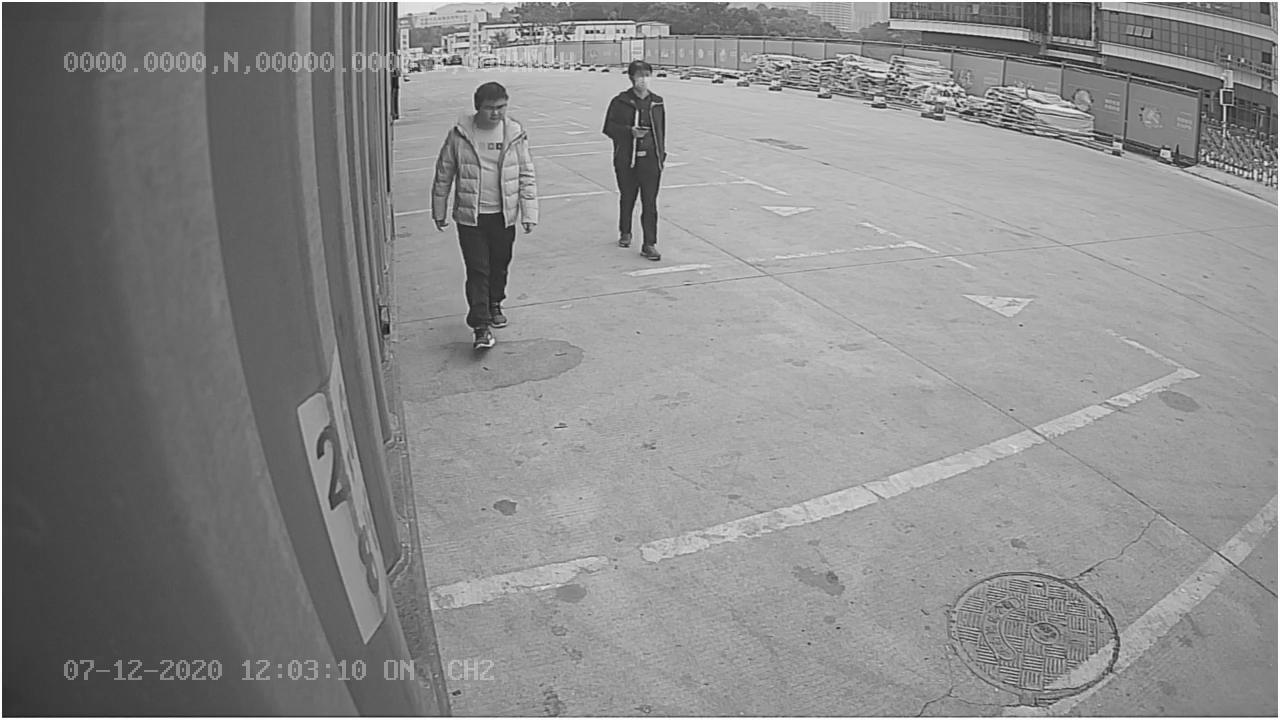person: (429, 84, 543, 354)
